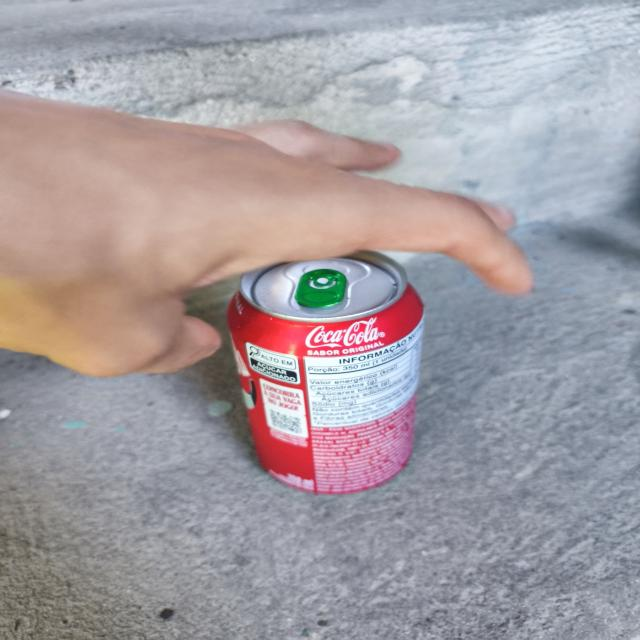Coca Cola: (228, 248, 428, 497)
